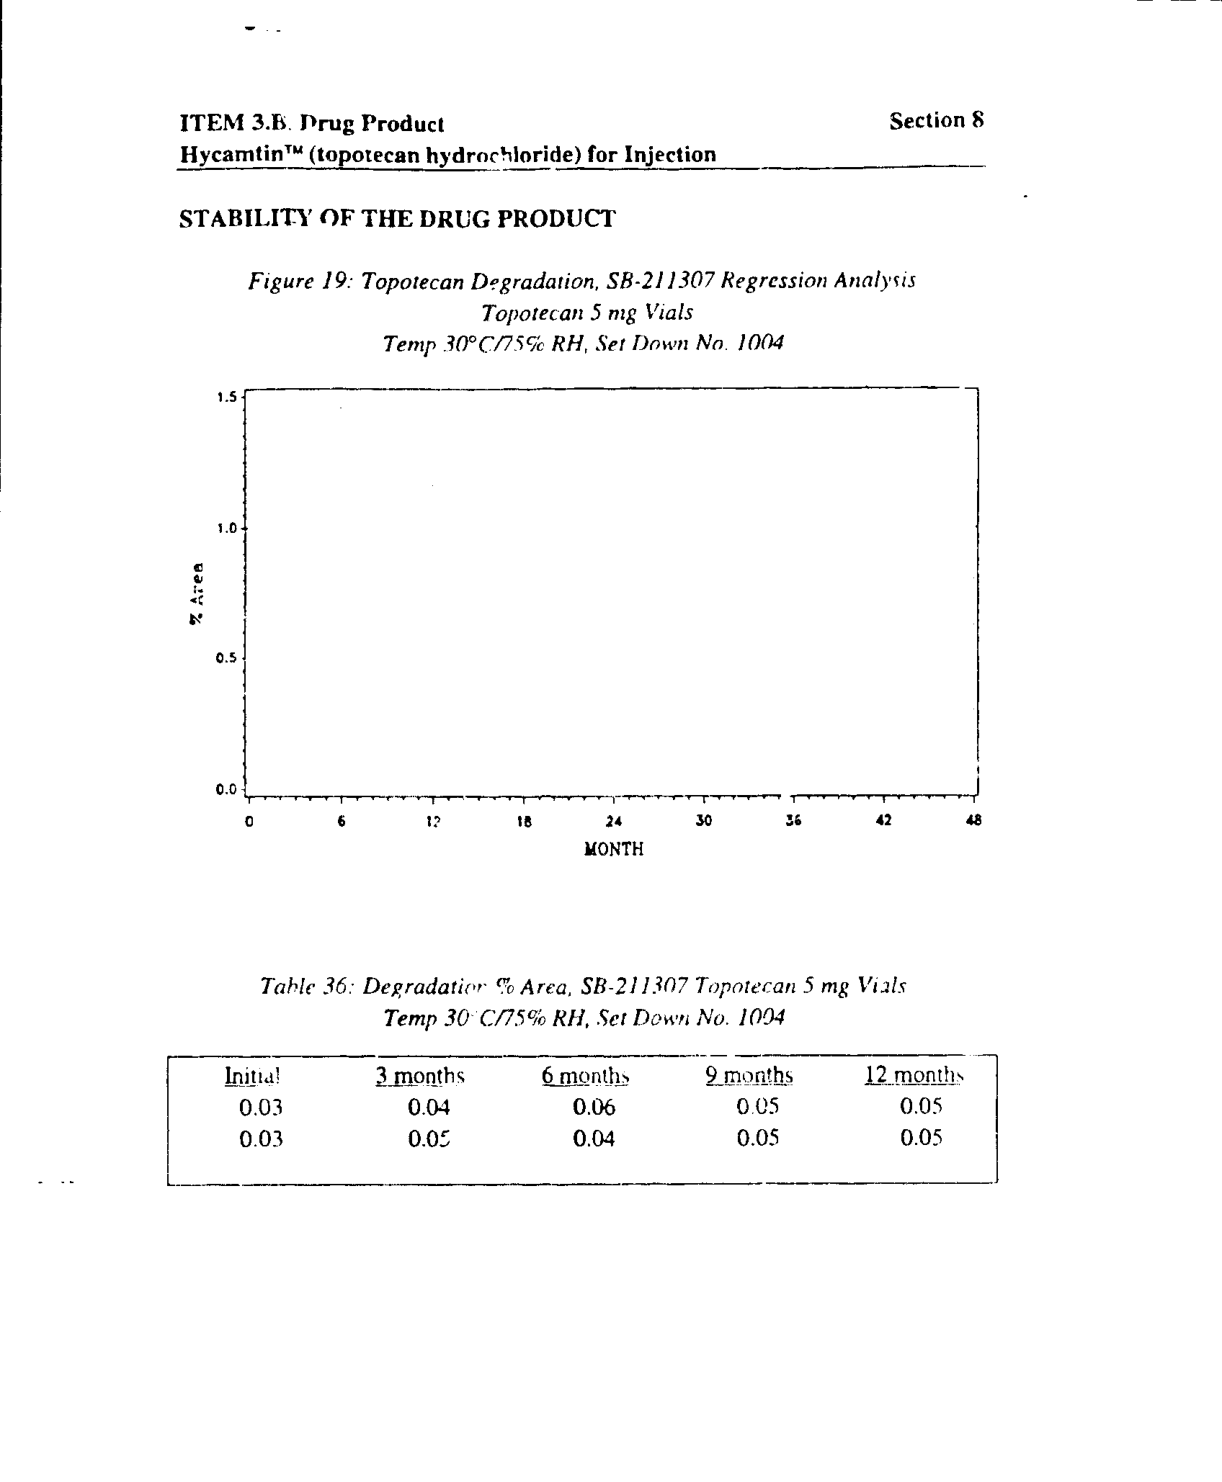merged_cells: (162, 1052, 1000, 1187)
